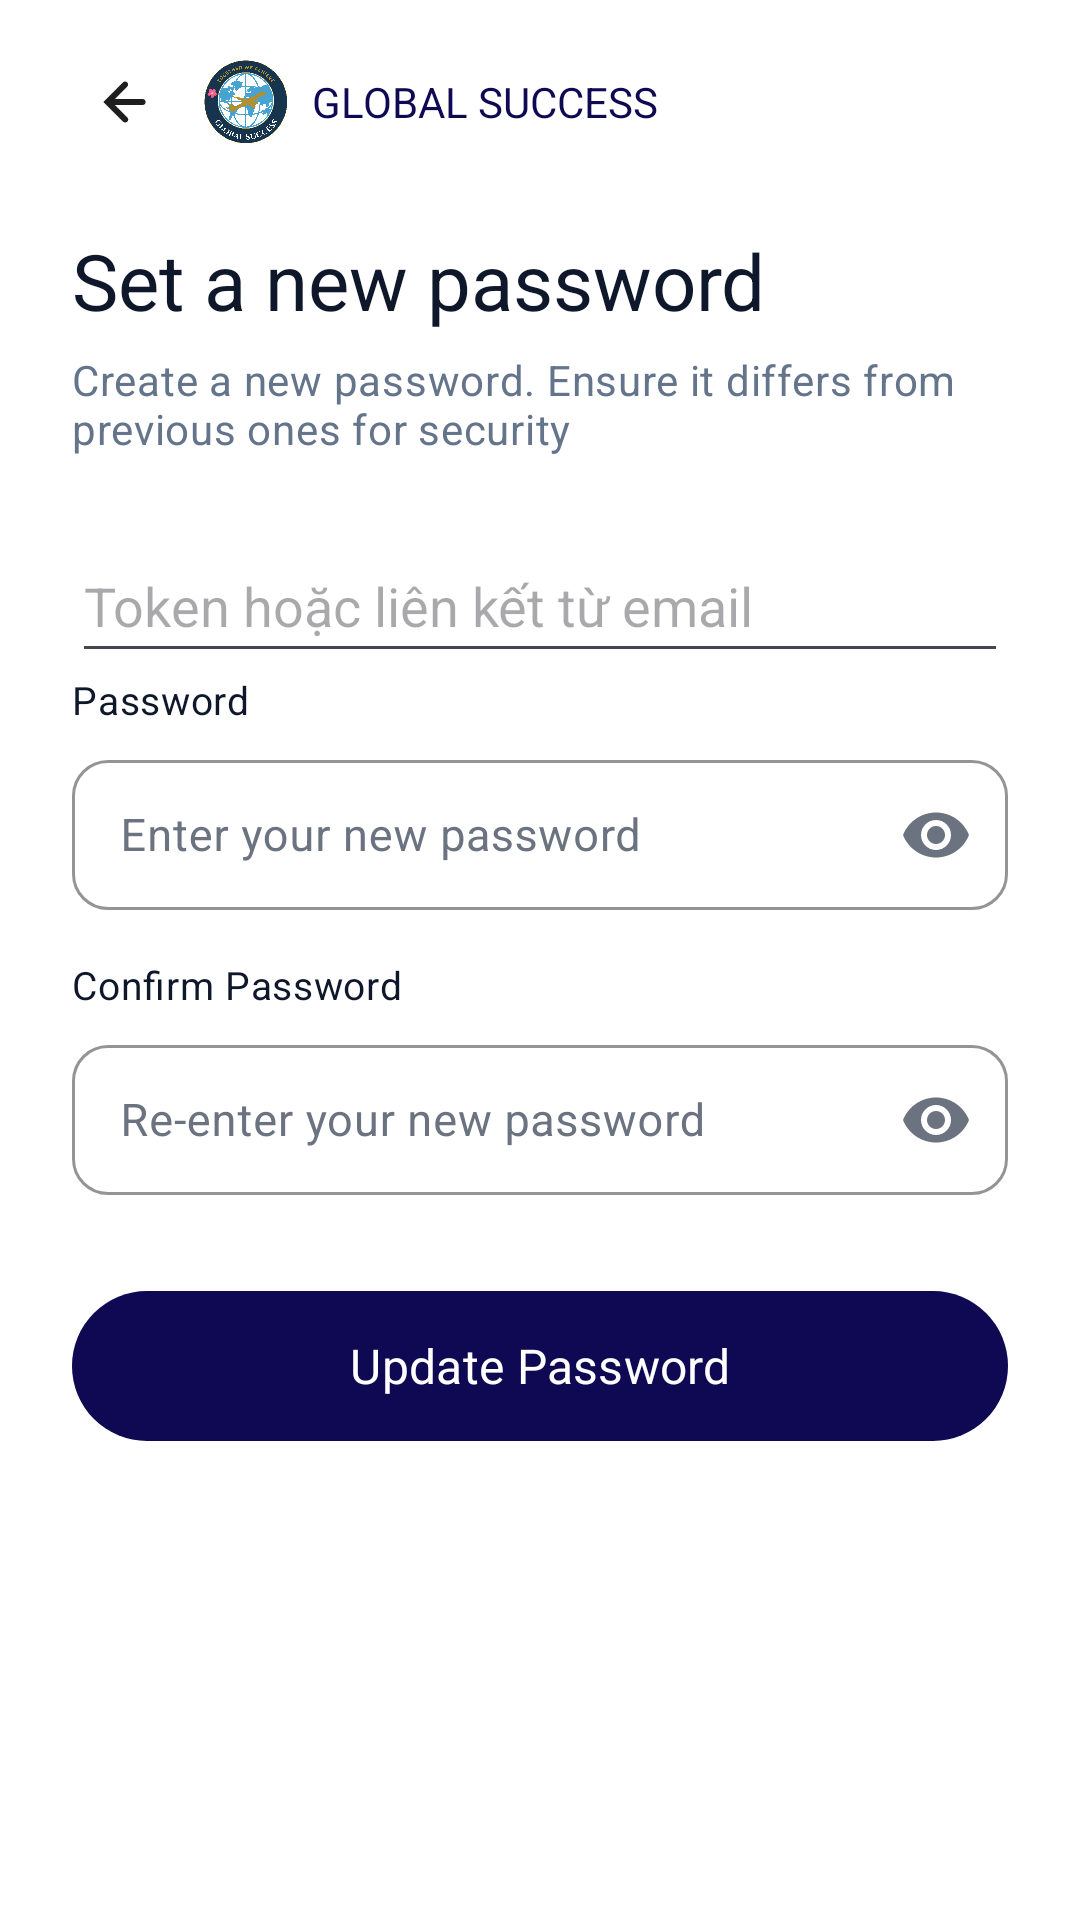

Icons on this 1080w x 1920h Android screen, each with the point to tap as (x=x, y=y):
Back button: (x=124, y=102)
